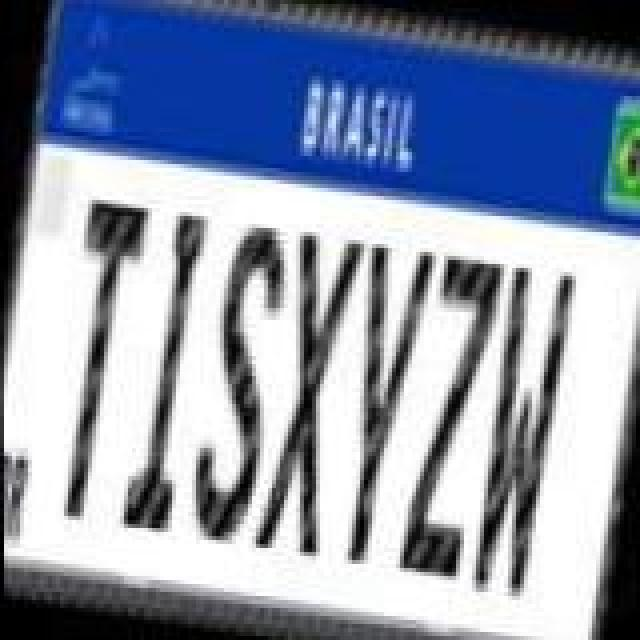I: (118, 202, 218, 538)
S: (178, 212, 294, 552)
T: (40, 188, 152, 524)
W: (458, 256, 578, 604)
X: (244, 222, 364, 562)
Y: (318, 238, 434, 574)
Z: (390, 242, 502, 582)
